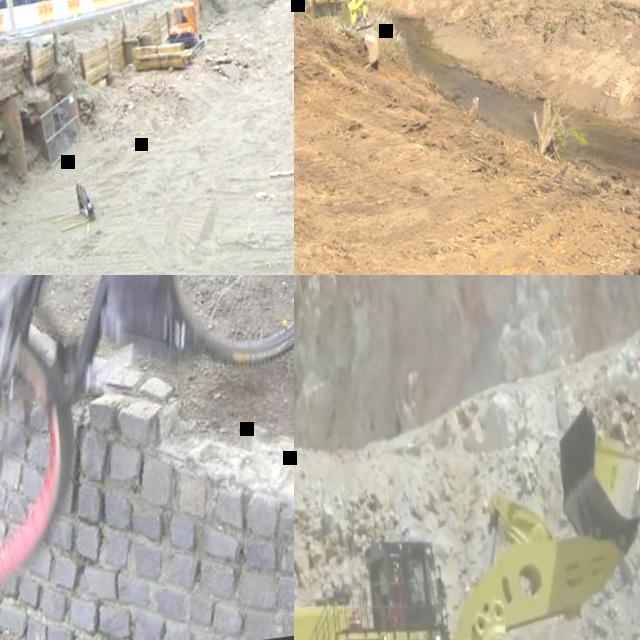Person: (0, 275, 278, 384)
machinery: (294, 382, 640, 640), (127, 0, 209, 72)
